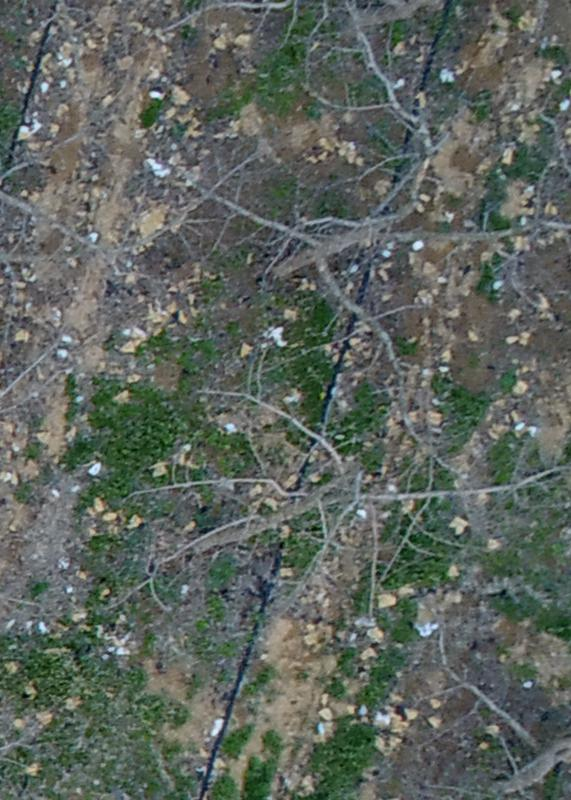apple: (112, 355, 546, 610), (154, 116, 543, 376)
